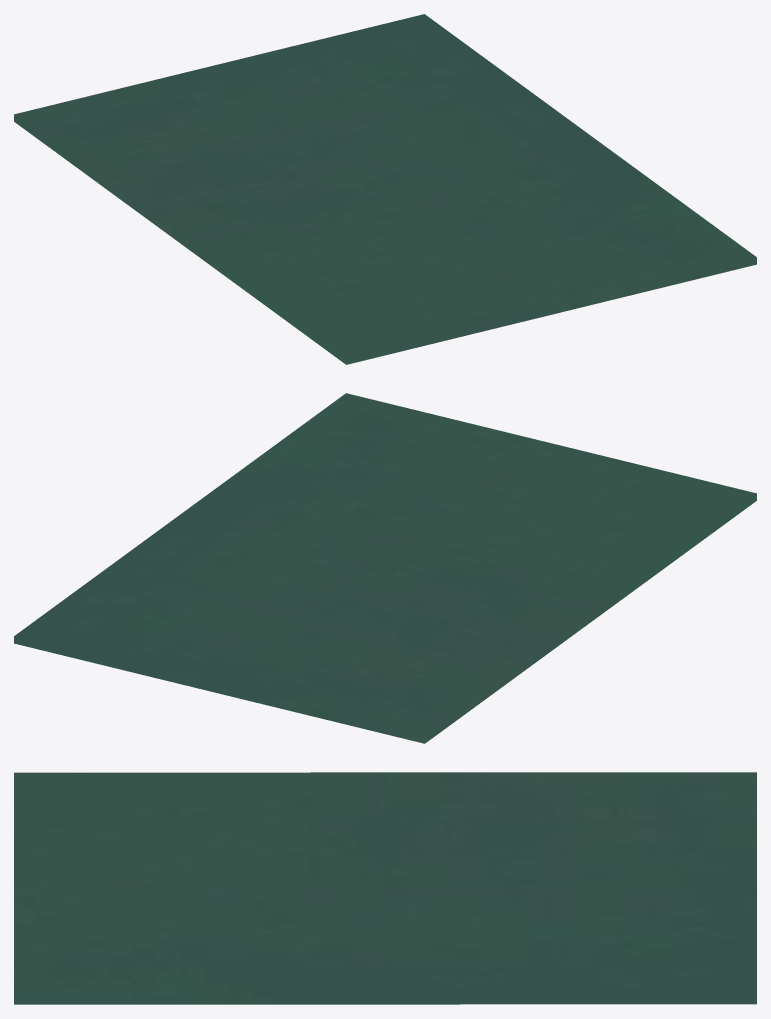
The picture shows the model from 3 angles, top to bottom: view 1: azimuth 30°, elevation 25°; view 2: azimuth 150°, elevation 25°; view 3: azimuth 270°, elevation 25°; orthographic projection. The views are drawn at different scales.
Parts seen in each view (by area): view 1: 30436272704370636531_0; view 2: 30436272704370636531_0; view 3: 30436272704370636531_0.
Part boxes in pixels (<box>): 30436272704370636531_0: <box>14,14,756,364</box>; 30436272704370636531_0: <box>14,393,756,743</box>; 30436272704370636531_0: <box>14,772,756,1004</box>.
Size of the model in its own units: 27.32 by 0.4803 by 38.26.
1 material, 1 textured.
